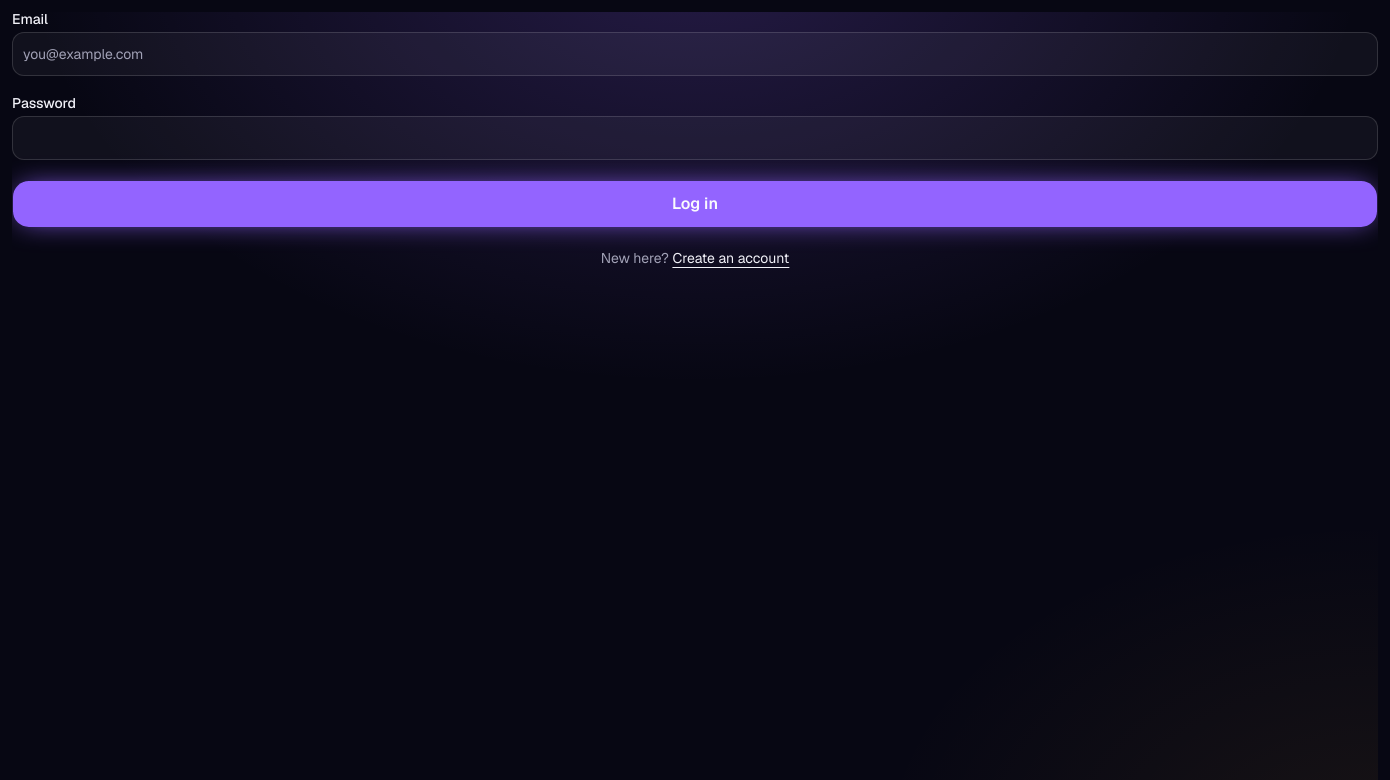
it: LoginForm › asks for both fields before contacting the server
Step 1. Click the button "Log in" → x=695, y=204, box top-left (12, 180), bottom-right (1378, 228)
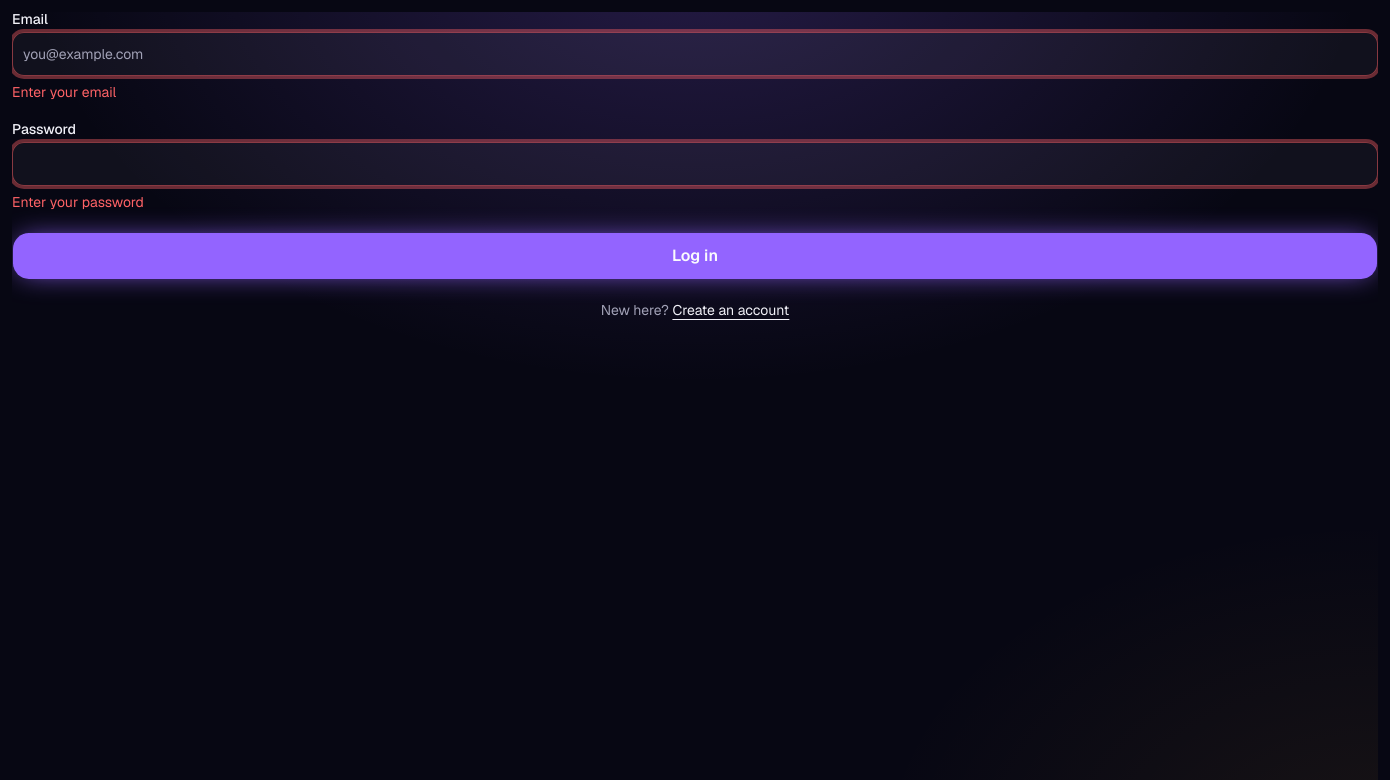
Result: the text "Enter your email" is shown at top-left (12, 83), bottom-right (116, 101)
Result: the text "Enter your password" is shown at top-left (12, 193), bottom-right (144, 211)
